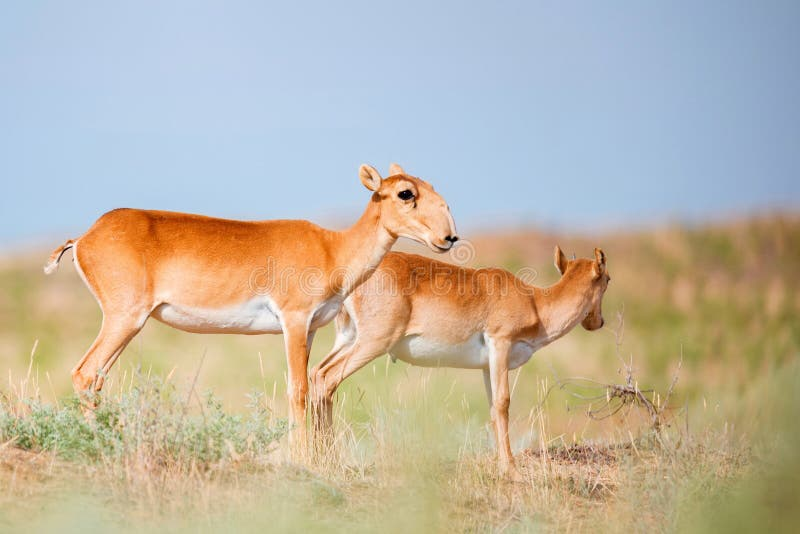saiga: (39, 163, 459, 457), (332, 244, 614, 492)
